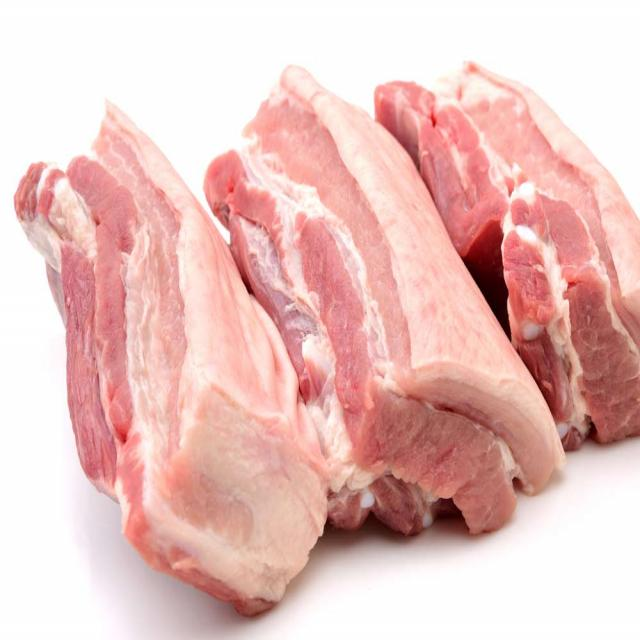Pork: (205, 72, 561, 534), (14, 102, 329, 616), (376, 62, 640, 449)
